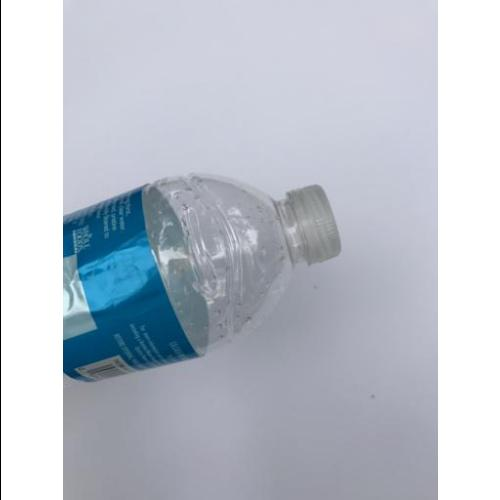plastic: (63, 174, 343, 387)
